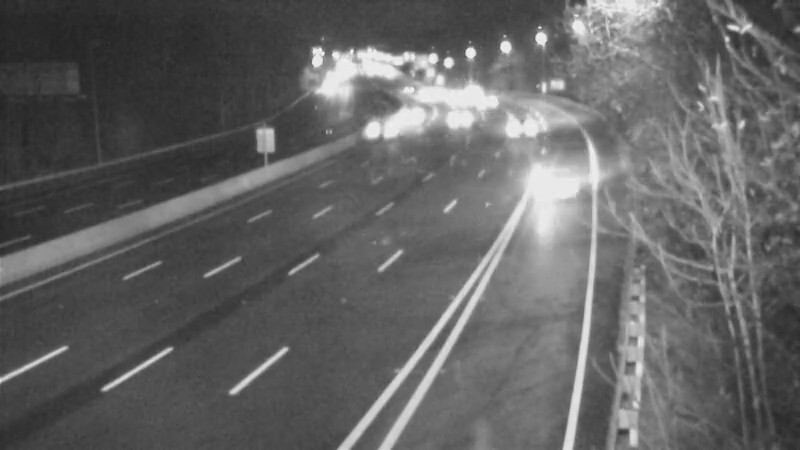vehicle: (519, 148, 599, 228), (447, 63, 497, 113), (462, 76, 512, 126), (433, 78, 483, 128), (388, 89, 438, 139), (432, 91, 482, 141), (492, 93, 542, 143), (349, 98, 399, 148)
